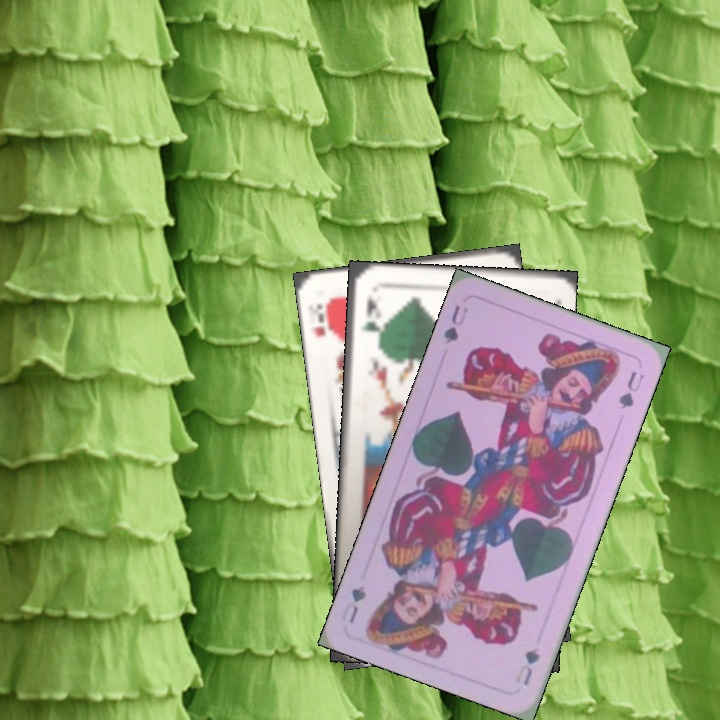GK: (357, 291, 380, 335)
GU: (439, 301, 471, 347), (512, 643, 543, 688)
HK: (309, 294, 335, 339)
